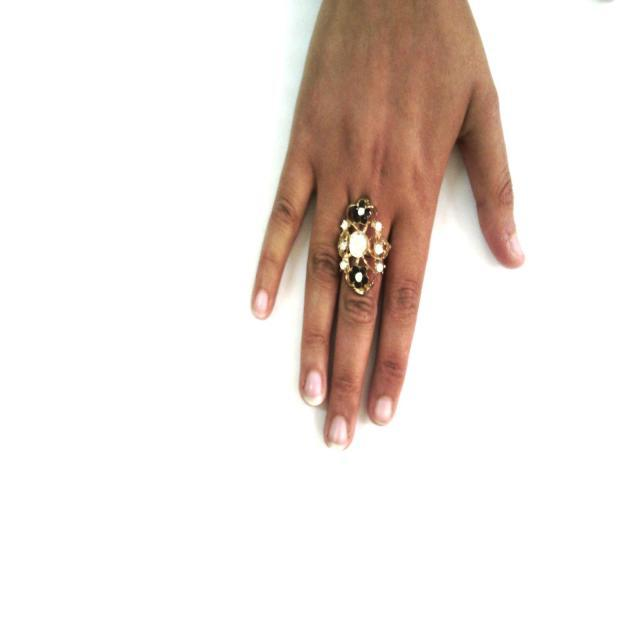Fingernail: (302, 369, 323, 406), (328, 415, 349, 451), (373, 397, 392, 423), (254, 291, 269, 318), (509, 234, 524, 259)
